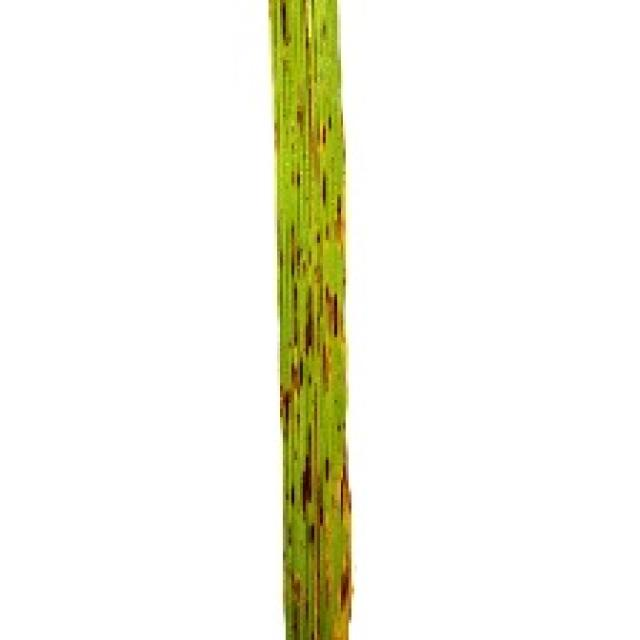Unhealthy: (280, 267, 333, 433), (301, 387, 330, 543), (332, 424, 351, 547), (304, 84, 332, 165), (330, 547, 353, 640), (322, 279, 345, 358), (289, 224, 315, 278), (334, 183, 347, 272), (299, 0, 314, 71), (277, 0, 292, 46), (288, 573, 305, 604), (319, 170, 329, 206), (291, 168, 305, 186), (292, 283, 301, 311), (289, 480, 297, 510), (292, 317, 300, 346), (325, 458, 331, 483), (288, 526, 294, 547), (323, 225, 330, 239), (315, 233, 321, 245)
